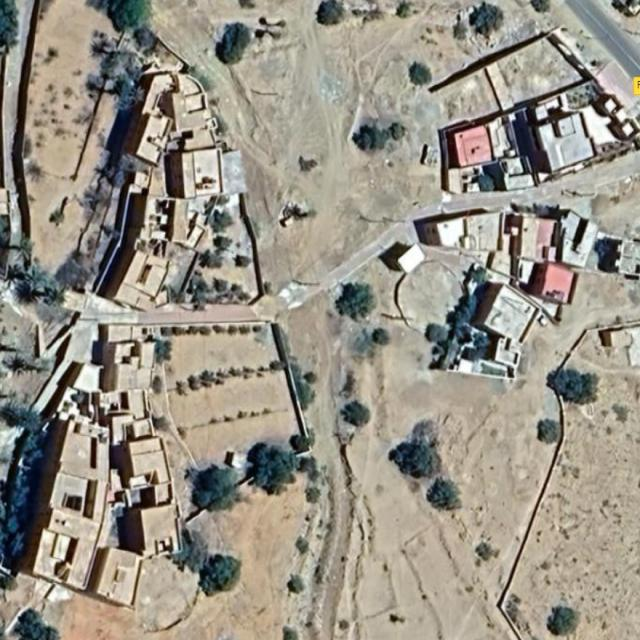Countryside roofs: (26, 423, 119, 587), (504, 77, 596, 181), (85, 321, 164, 404), (467, 281, 540, 368), (120, 72, 176, 172), (112, 240, 184, 314), (512, 208, 604, 262), (128, 482, 178, 574), (160, 147, 242, 202), (440, 114, 500, 177), (126, 186, 190, 242), (96, 550, 150, 613), (115, 441, 187, 488), (431, 210, 504, 248), (538, 270, 584, 316)
